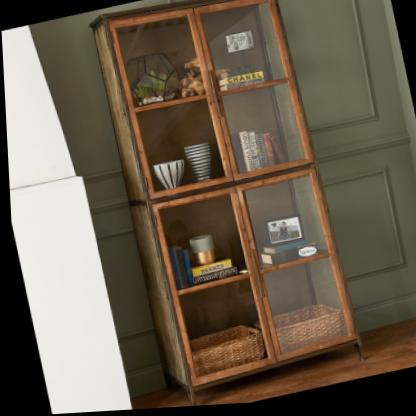Cupboard: (96, 0, 354, 392)
Wooden floor: (193, 322, 416, 408)
